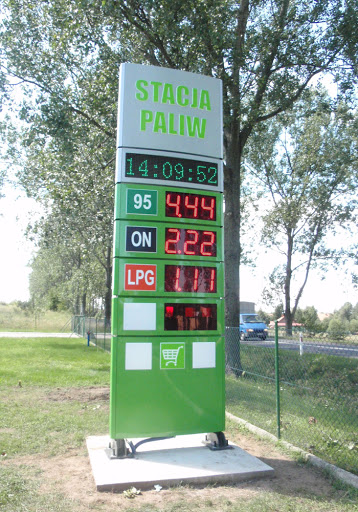LPG: (123, 261, 157, 291)
ON: (123, 224, 157, 253)
PB95: (126, 185, 158, 216)
